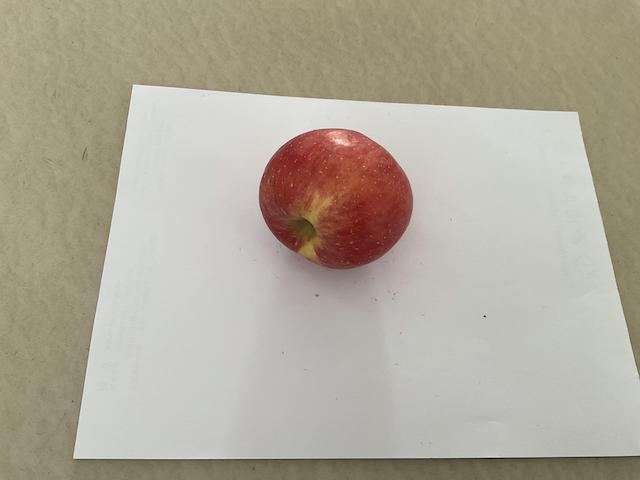apple: (253, 119, 418, 274)
